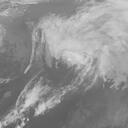cyclone: (30, 15, 123, 81)
